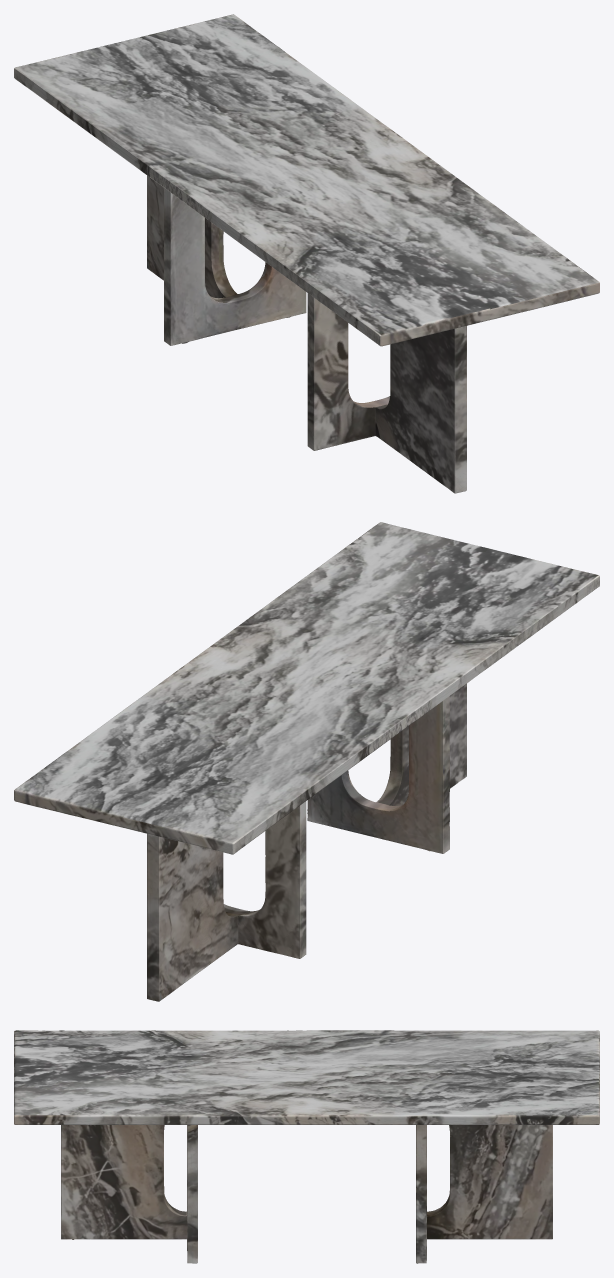
3 renders of one model, top to bottom at view 1: azimuth 30°, elevation 25°; view 2: azimuth 150°, elevation 25°; view 3: azimuth 270°, elevation 25°, orthographic. The views are drawn at different scales.
Parts seen in each view (by area): view 1: tripo_node_7023abdb-8127-4cc6-b95b-449f269f8ed8; view 2: tripo_node_7023abdb-8127-4cc6-b95b-449f269f8ed8; view 3: tripo_node_7023abdb-8127-4cc6-b95b-449f269f8ed8.
Part boxes in pixels (bbox=[...]): tripo_node_7023abdb-8127-4cc6-b95b-449f269f8ed8: bbox=[14, 14, 599, 493]; tripo_node_7023abdb-8127-4cc6-b95b-449f269f8ed8: bbox=[14, 522, 599, 1001]; tripo_node_7023abdb-8127-4cc6-b95b-449f269f8ed8: bbox=[14, 1030, 599, 1263].
Bounding box in the file's own units: 0.347 × 0.3128 × 1.
Materials: 1 (1 with a texture image).
